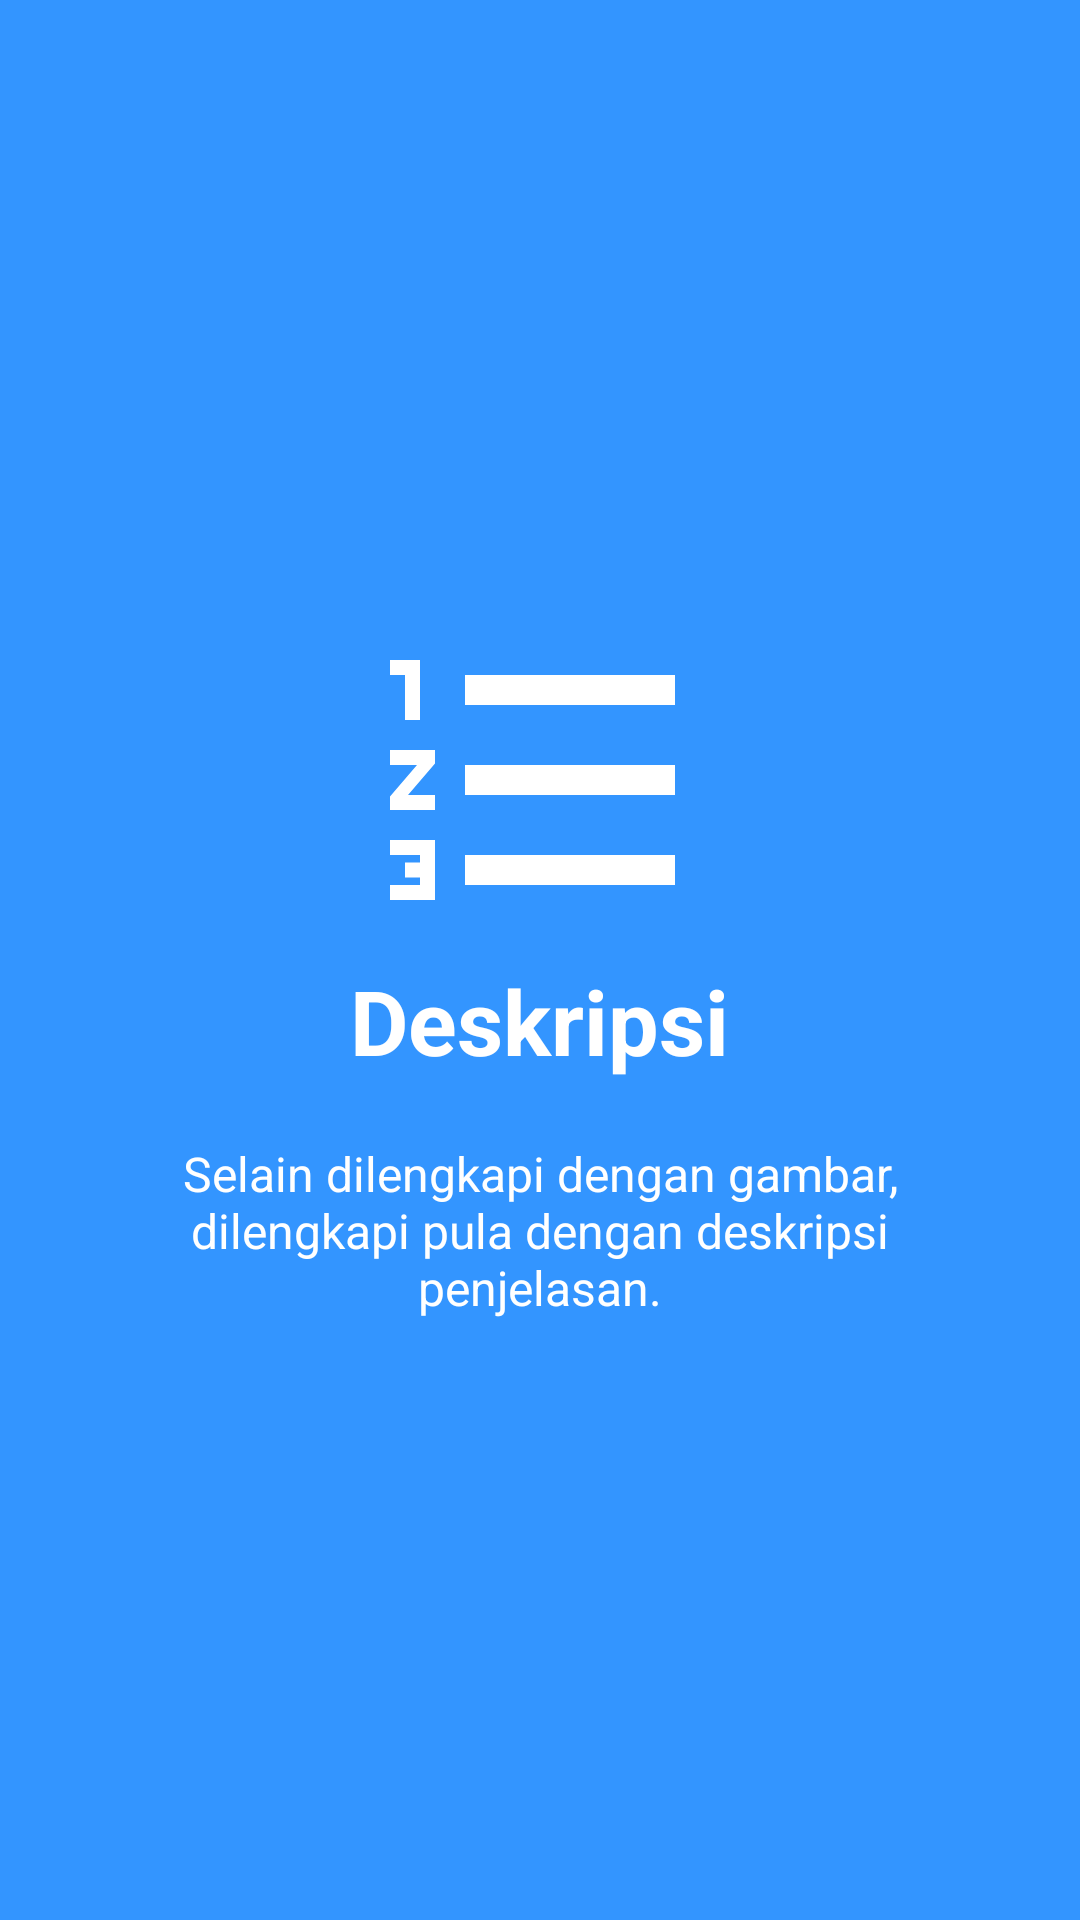

Where icons sit on this 1080px x 1920px app screen, as (x1, y1, x2, y2):
format list: (390, 660, 675, 900)
